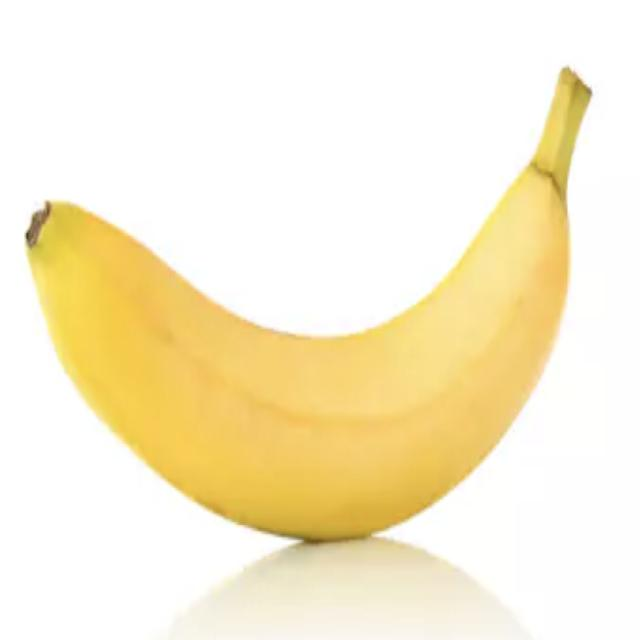fresh-banana: (23, 64, 593, 544)
